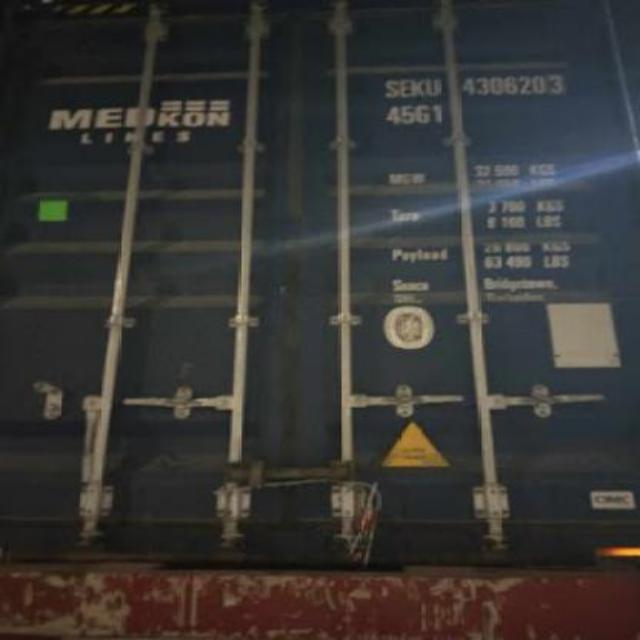0: (530, 68, 546, 100), (488, 70, 502, 102)
2: (518, 70, 532, 100)
3: (546, 63, 570, 101), (476, 72, 489, 96)
4: (458, 72, 476, 98)
6: (502, 67, 518, 97)
E: (396, 75, 412, 101)
K: (410, 74, 426, 102)
S: (382, 74, 398, 98)
U: (426, 69, 442, 99)
